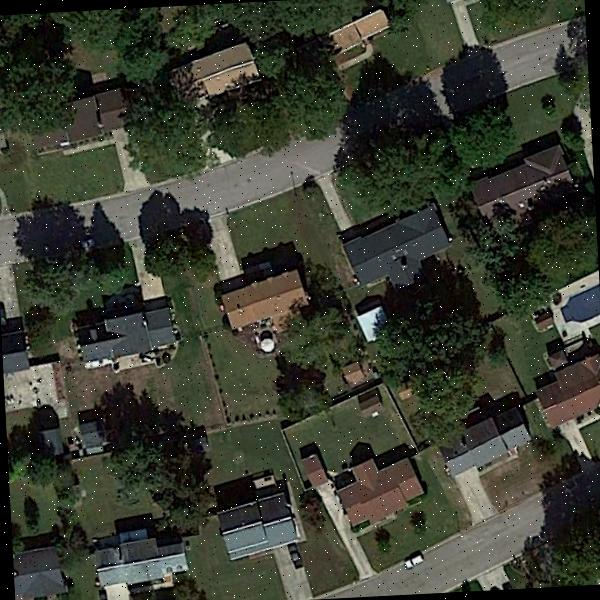Buildings: (332, 216, 460, 284), (205, 494, 308, 572), (473, 146, 568, 228), (329, 462, 429, 538), (28, 100, 122, 160), (526, 358, 600, 427), (76, 319, 186, 358), (224, 270, 301, 324), (438, 421, 522, 464), (98, 540, 183, 580), (4, 356, 60, 406), (185, 47, 255, 87), (13, 556, 65, 590), (342, 20, 378, 66), (432, 422, 437, 426)
